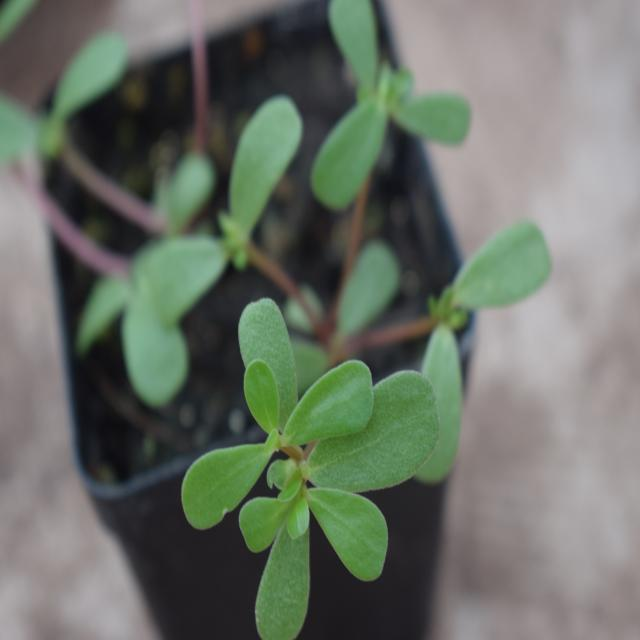purslane: (122, 68, 451, 605)
